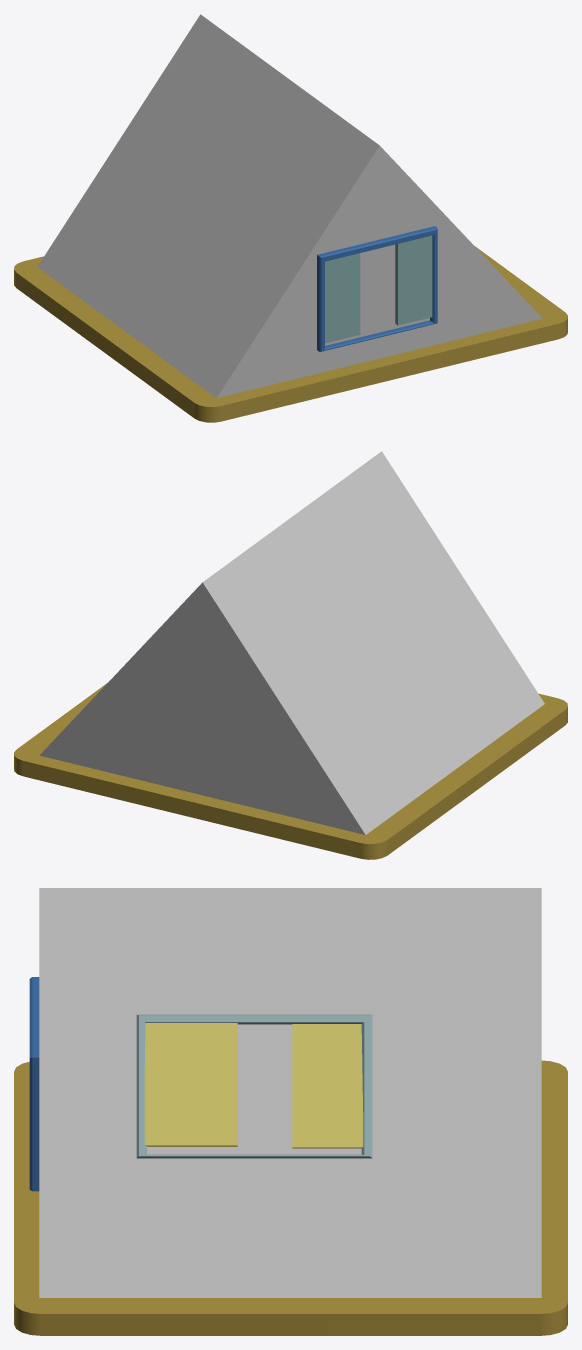
Rendered from SM_house_1-2.fbx.
3 renders of one model, top to bottom at view 1: azimuth 30°, elevation 25°; view 2: azimuth 150°, elevation 25°; view 3: azimuth 270°, elevation 25°, orthographic. The views are drawn at different scales.
Visible parts, largest first — view 1: polySurface205; view 2: polySurface205; view 3: polySurface205.
Part boxes in pixels (x1=…): polySurface205: x1=14, y1=14, x2=567, y2=422; polySurface205: x1=14, y1=451, x2=567, y2=859; polySurface205: x1=14, y1=888, x2=567, y2=1335.
Bounding box in the file's own units: 303 × 179 × 279.
